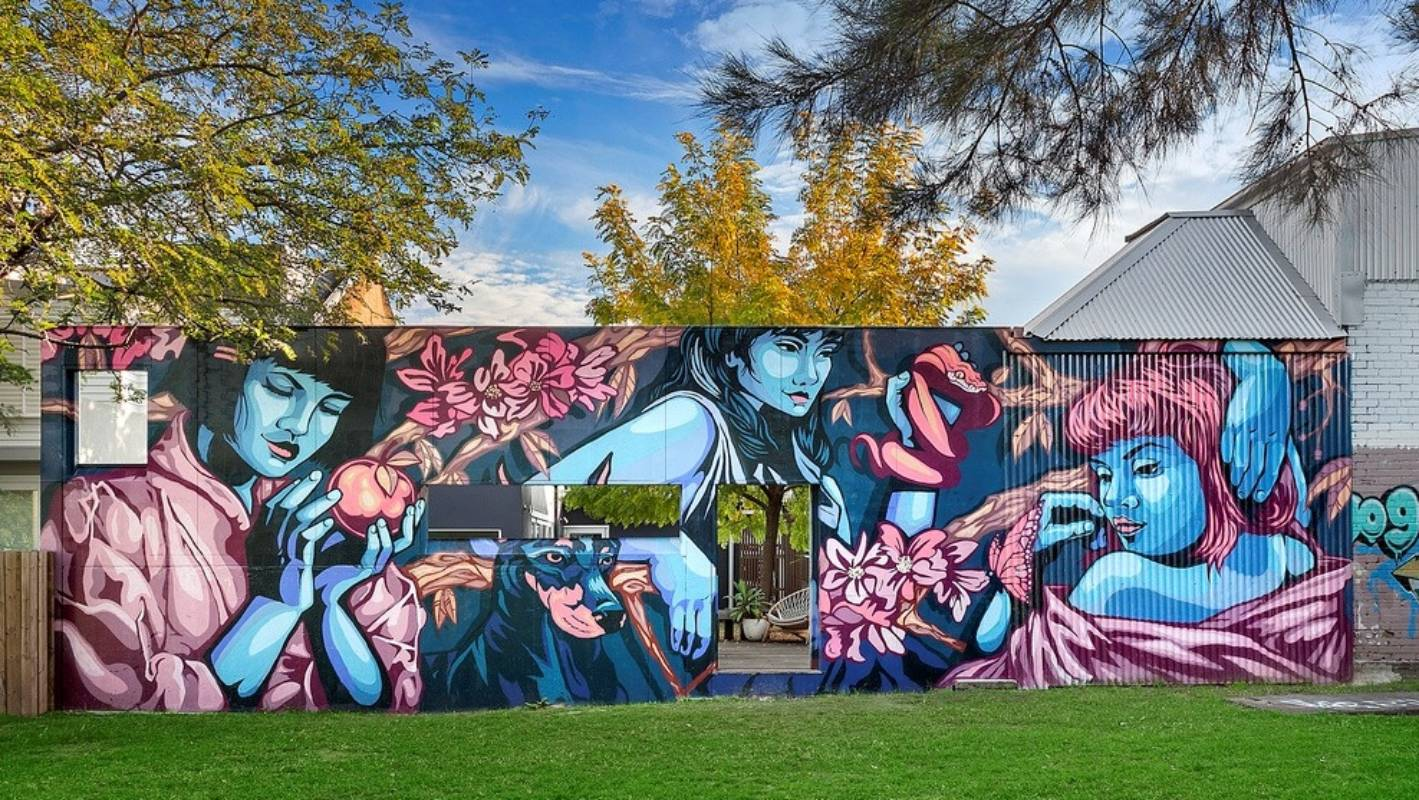graphite: (42, 328, 421, 706), (1023, 350, 1328, 658), (416, 335, 630, 453), (723, 480, 818, 672), (1346, 482, 1419, 572)
